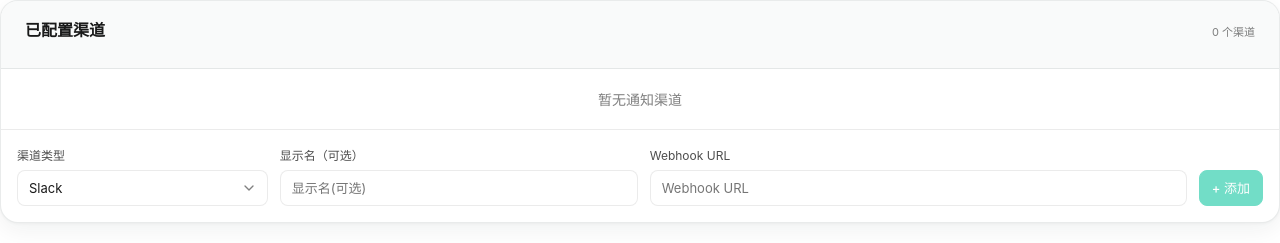
NotifyChannelsPanel › 添加渠道后持久化并显示在列表
Expected: the dropdown is enabled, [17, 170, 268, 206]
In the field labelled "显示名（可选）": (459, 188) [280, 170, 638, 206], type "我的Slack"
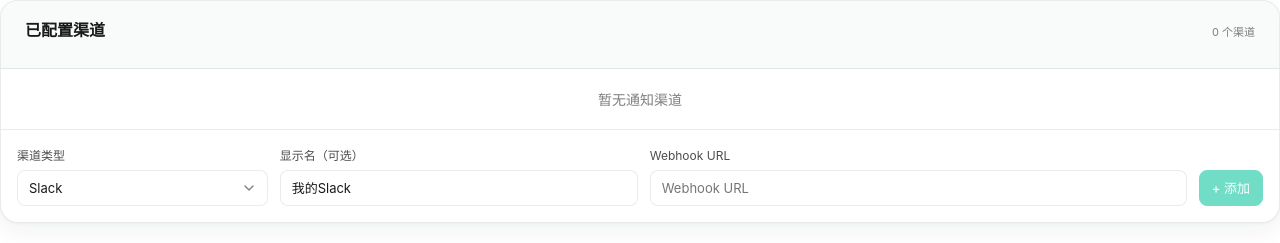
In the field with placeholder "Webhook URL": (918, 188) [650, 170, 1187, 206], type "https://hooks.slack.com/x"
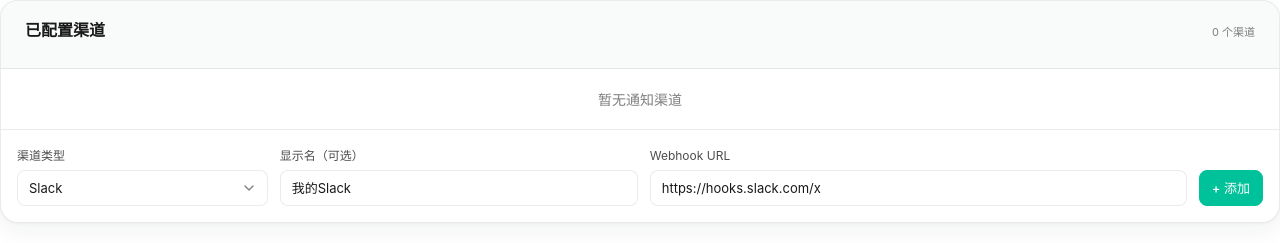
Click the button "+ 添加": (1231, 188) [1199, 170, 1263, 206]
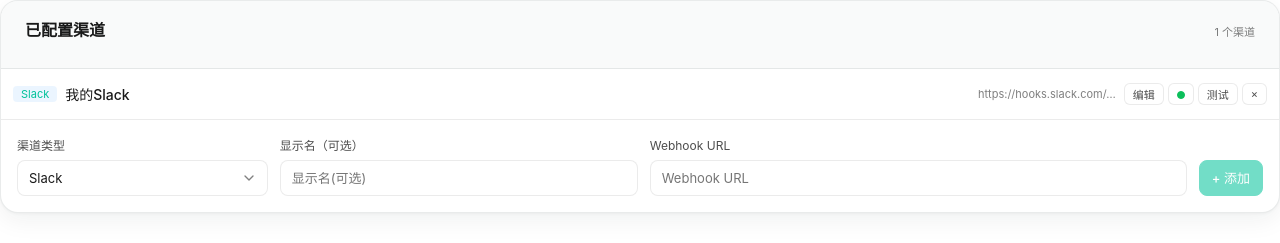
Expected: the text "我的Slack" is shown, [65, 86, 130, 103]
